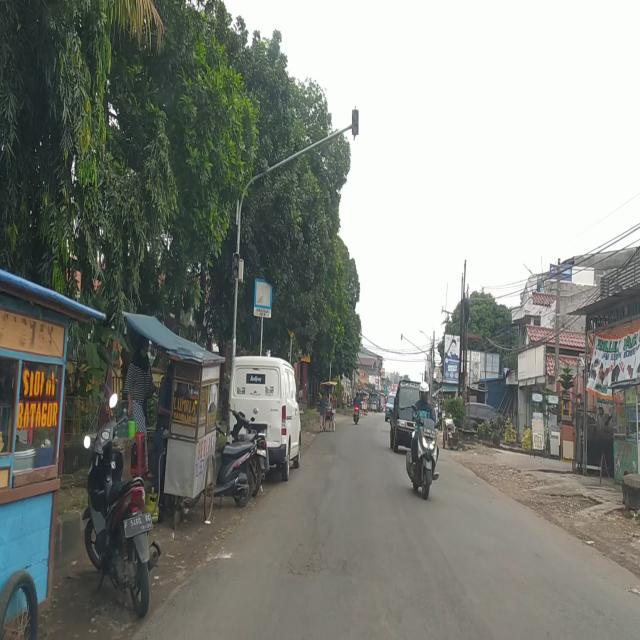Drain Hole: (280, 534, 349, 574)
